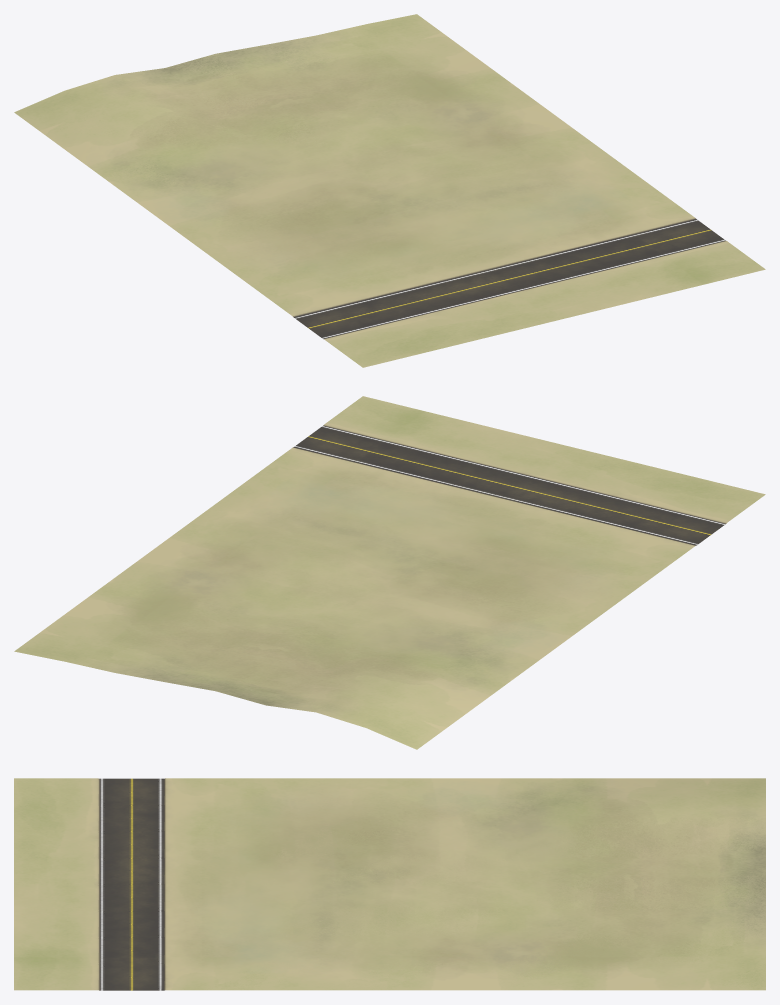
The model's file is chunk1.FBX.
3 renders of one model, top to bottom at view 1: azimuth 30°, elevation 25°; view 2: azimuth 150°, elevation 25°; view 3: azimuth 270°, elevation 25°, orthographic. The views are drawn at different scales.
Parts seen in each view (by area): view 1: Plane001; view 2: Plane001; view 3: Plane001.
Part boxes in pixels (x1,y1,x2,y2): Plane001: (14, 14, 765, 367); Plane001: (14, 396, 765, 749); Plane001: (14, 778, 765, 990).
Bounding box in the file's own units: 1575 × 49.24 × 2362.
